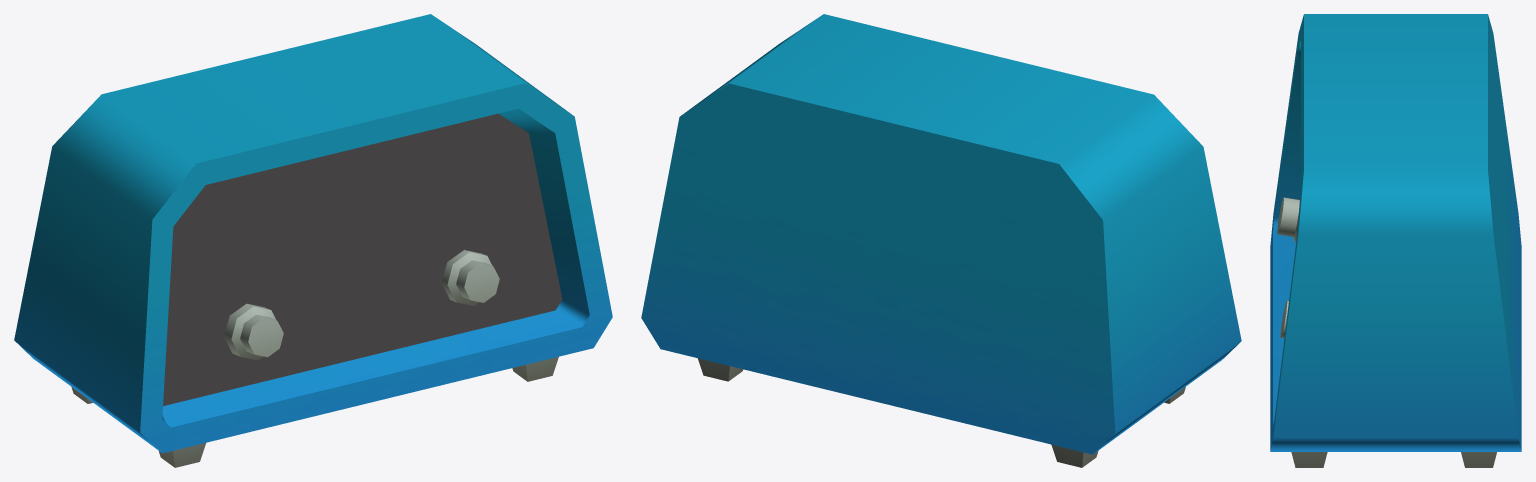
The model's file is SM_Radio_1_05.fbx.
The picture shows the model from 3 angles, left to right: view 1: azimuth 30°, elevation 25°; view 2: azimuth 150°, elevation 25°; view 3: azimuth 270°, elevation 25°; orthographic projection. The views are drawn at different scales.
Visible parts, largest first — view 1: SM_Radio_1_05; view 2: SM_Radio_1_05; view 3: SM_Radio_1_05.
Part boxes in pixels (x1,y1,x2,y2): SM_Radio_1_05: (14, 14, 612, 467); SM_Radio_1_05: (641, 14, 1241, 467); SM_Radio_1_05: (1270, 14, 1521, 467).
Size of the model in its own units: 46.72 by 27.86 by 22.12.
